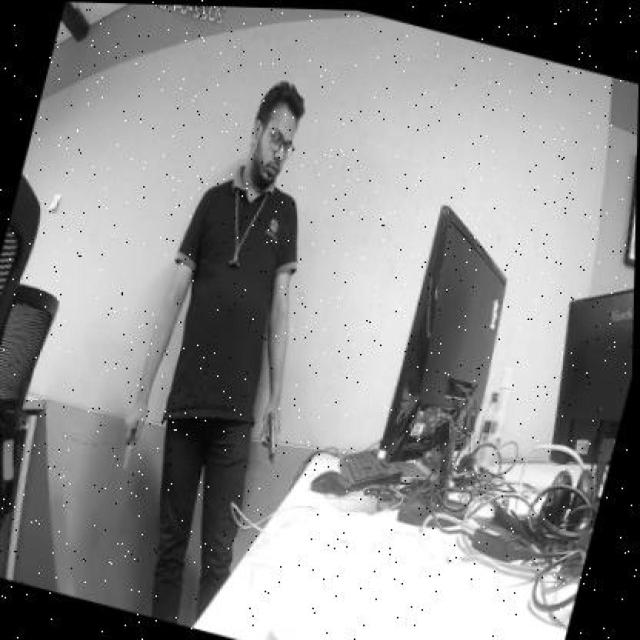weapon: (263, 407, 277, 465)
